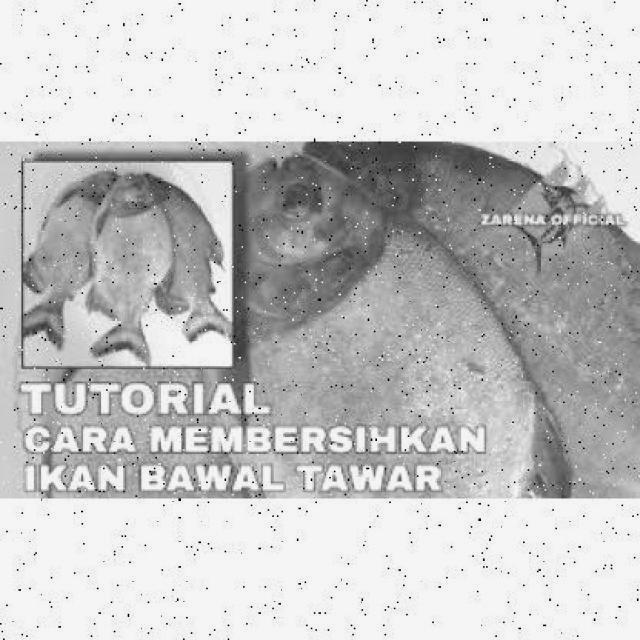ikan-pacu: (84, 172, 170, 358)
